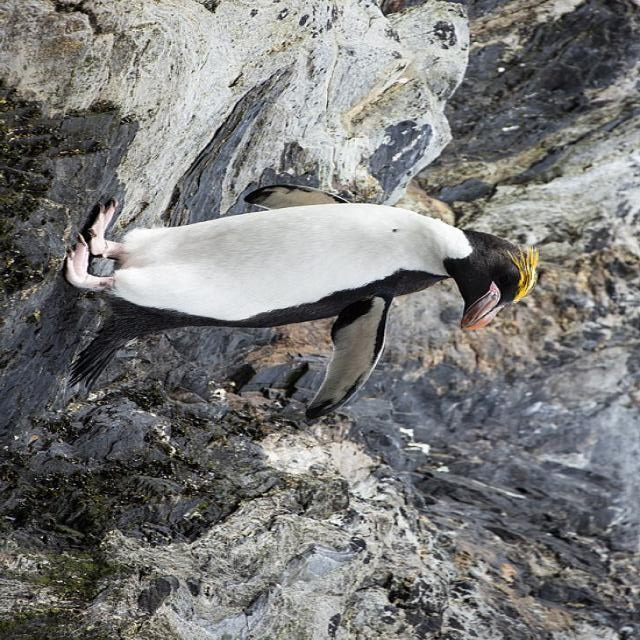penguin: (59, 183, 537, 423)
